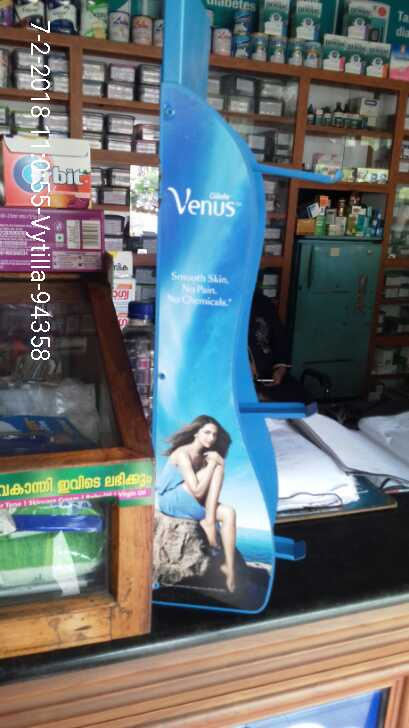reject: (126, 209, 241, 306)
